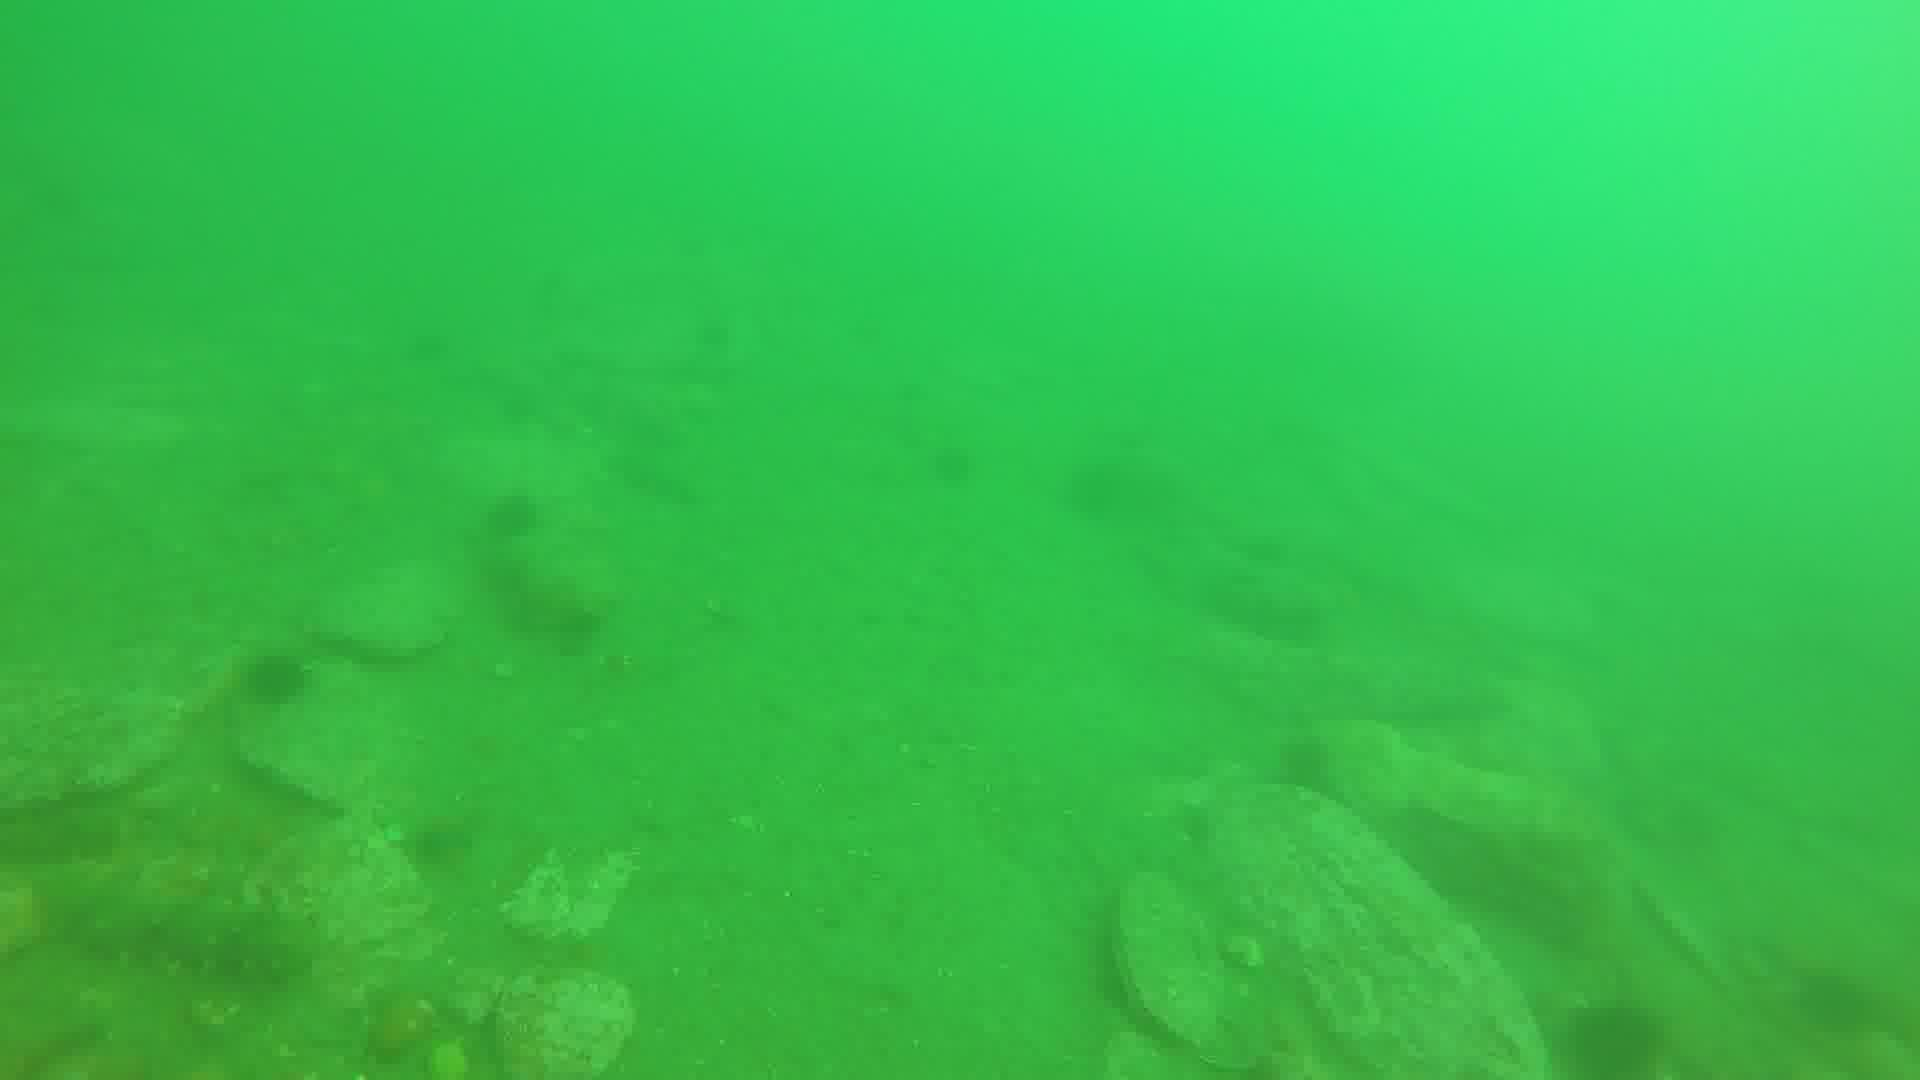echinus: (1564, 1018, 1659, 1080), (1807, 973, 1861, 1033), (251, 655, 299, 703), (492, 496, 542, 527), (924, 443, 971, 473)
holothurian: (69, 878, 342, 977)
